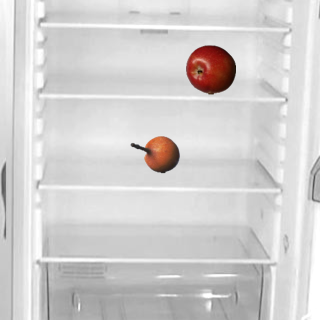Apple Braeburn: (185, 44, 235, 94)
Granadilla: (129, 129, 179, 179)
